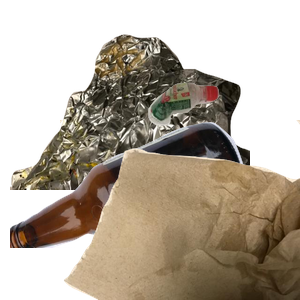glass: (10, 120, 247, 300)
metal: (10, 32, 250, 212)
plastic: (146, 80, 300, 198)
trash: (60, 120, 300, 300)
